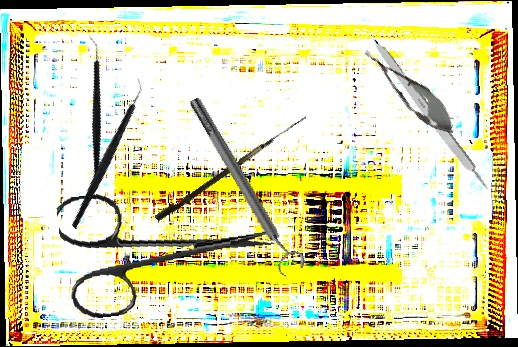Chopper: (28, 76, 184, 230), (41, 34, 146, 187)
Fixation Ring: (181, 91, 309, 280)
Hook Surgical: (154, 109, 307, 225)
Iris Scissors: (55, 173, 282, 322)
Micro Scissor: (354, 40, 465, 143)
Scalpel Handle: (366, 35, 493, 196)
